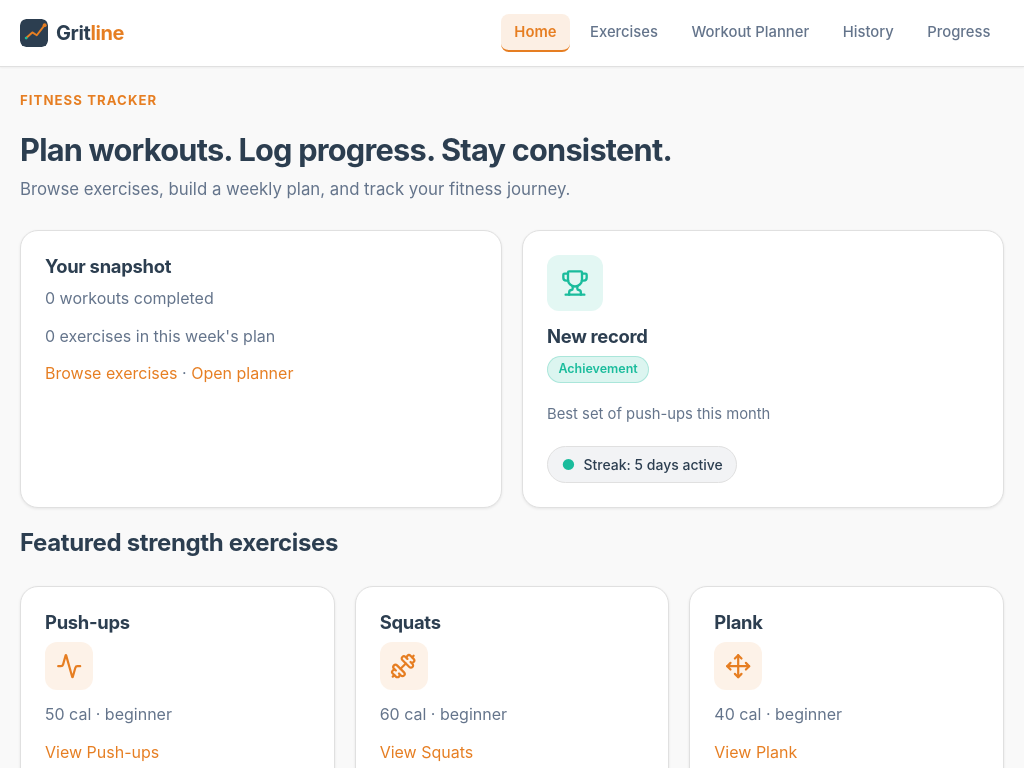
Test: Navigation › clicks through Home, Exercises, Planner, History, and Progress
Click the link "Exercises". click: {"x": 624, "y": 32}
box: [590,23,658,41]
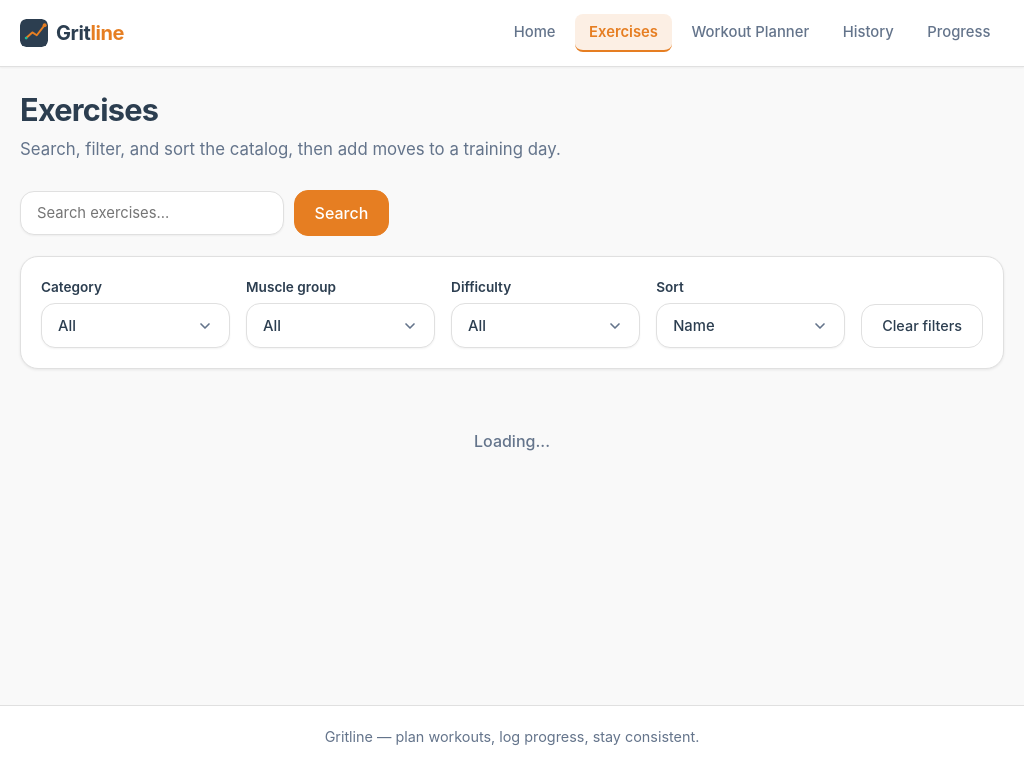
Now the heading "Exercises" is shown, box [20,91,158,128]
Click the link "Workout Planner". click: {"x": 750, "y": 32}
box: [692,23,809,41]
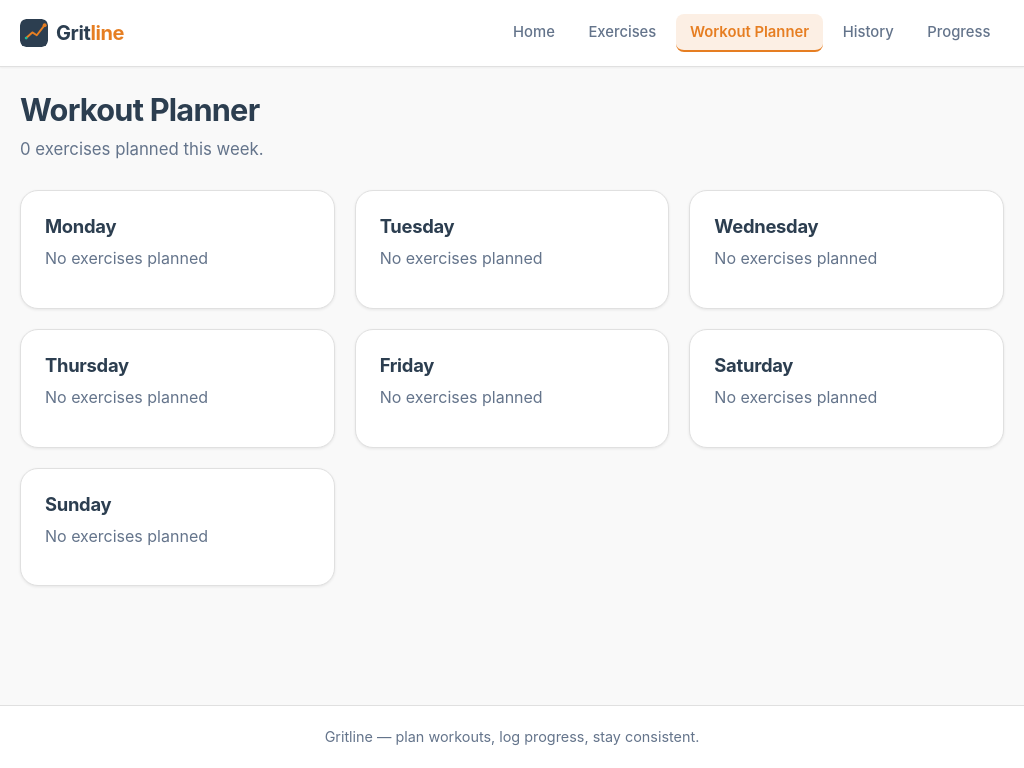
Now the heading "Workout Planner" is shown, box [20,91,259,128]
Click the link "History". click: {"x": 868, "y": 32}
box: [843,23,894,41]
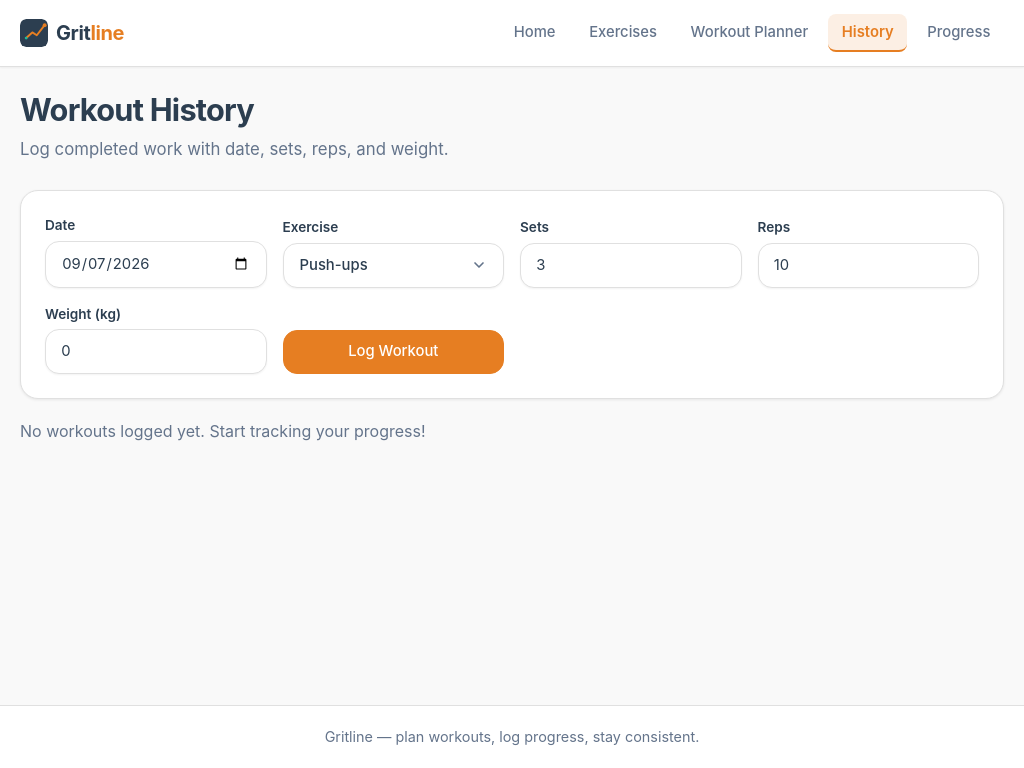
Now the heading "Workout History" is shown, box [20,91,254,128]
Click the link "Progress". click: {"x": 959, "y": 32}
box: [927,23,990,41]
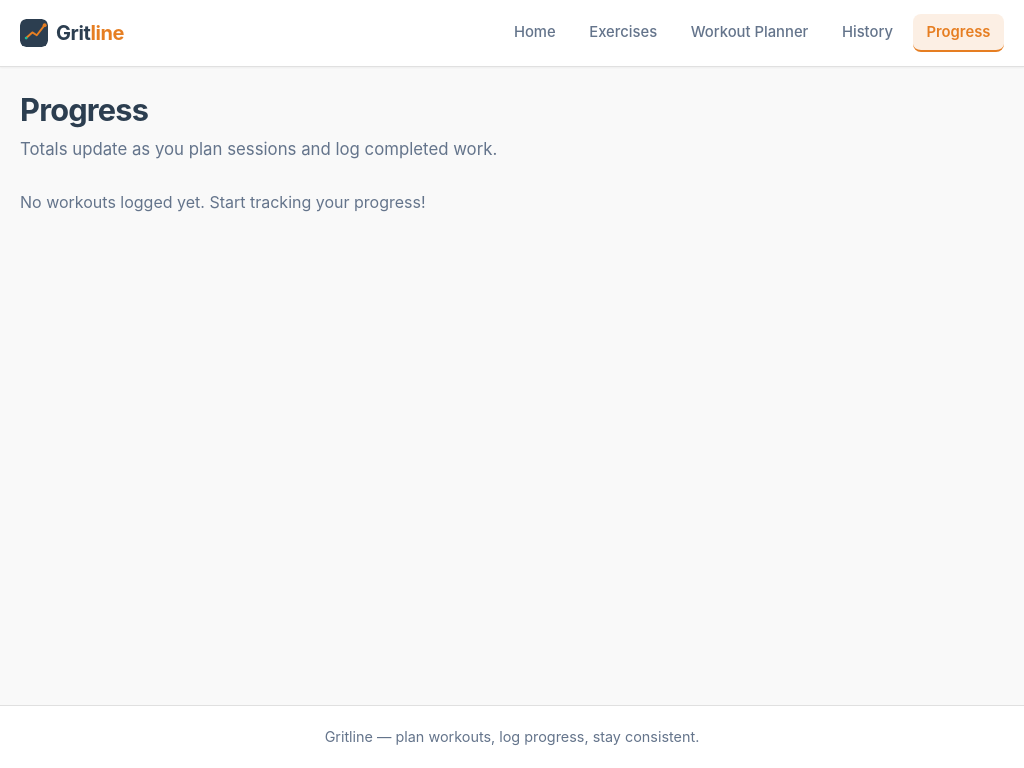
Now the heading "Progress" is shown, box [20,91,148,128]
